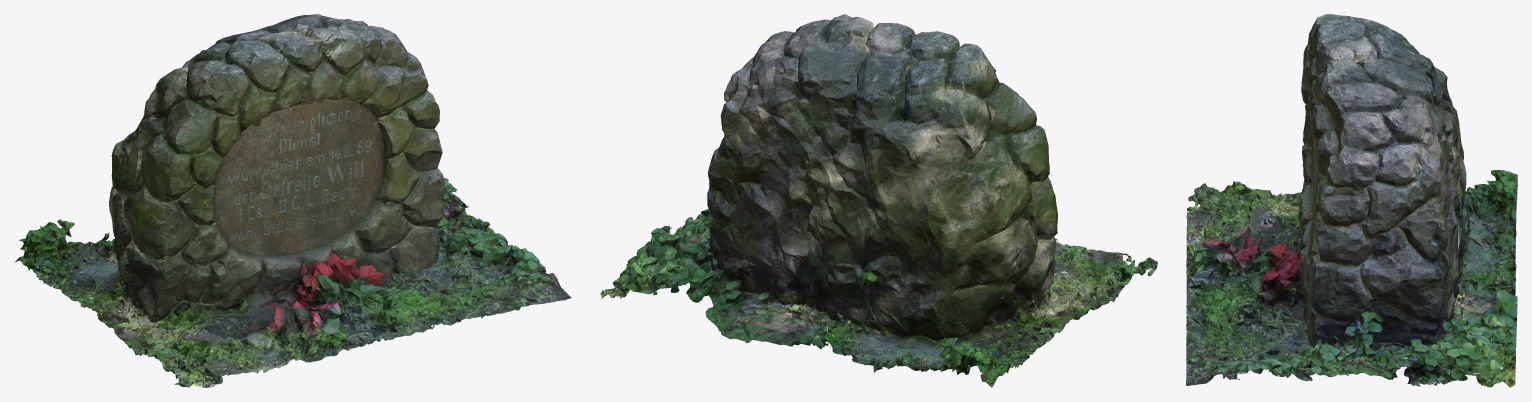
3 renders of one model, left to right at view 1: azimuth 30°, elevation 25°; view 2: azimuth 150°, elevation 25°; view 3: azimuth 270°, elevation 25°, orthographic. The views are drawn at different scales.
Parts seen in each view (by area): view 1: 1k.25k; view 2: 1k.25k; view 3: 1k.25k.
Part boxes in pixels (x1=…): 1k.25k: x1=14, y1=14, x2=571, y2=387; 1k.25k: x1=600, y1=14, x2=1157, y2=387; 1k.25k: x1=1186, y1=14, x2=1517, y2=387.
Bounding box in the file's own units: 3.67 × 2.35 × 2.76.
1 material, 1 textured.
